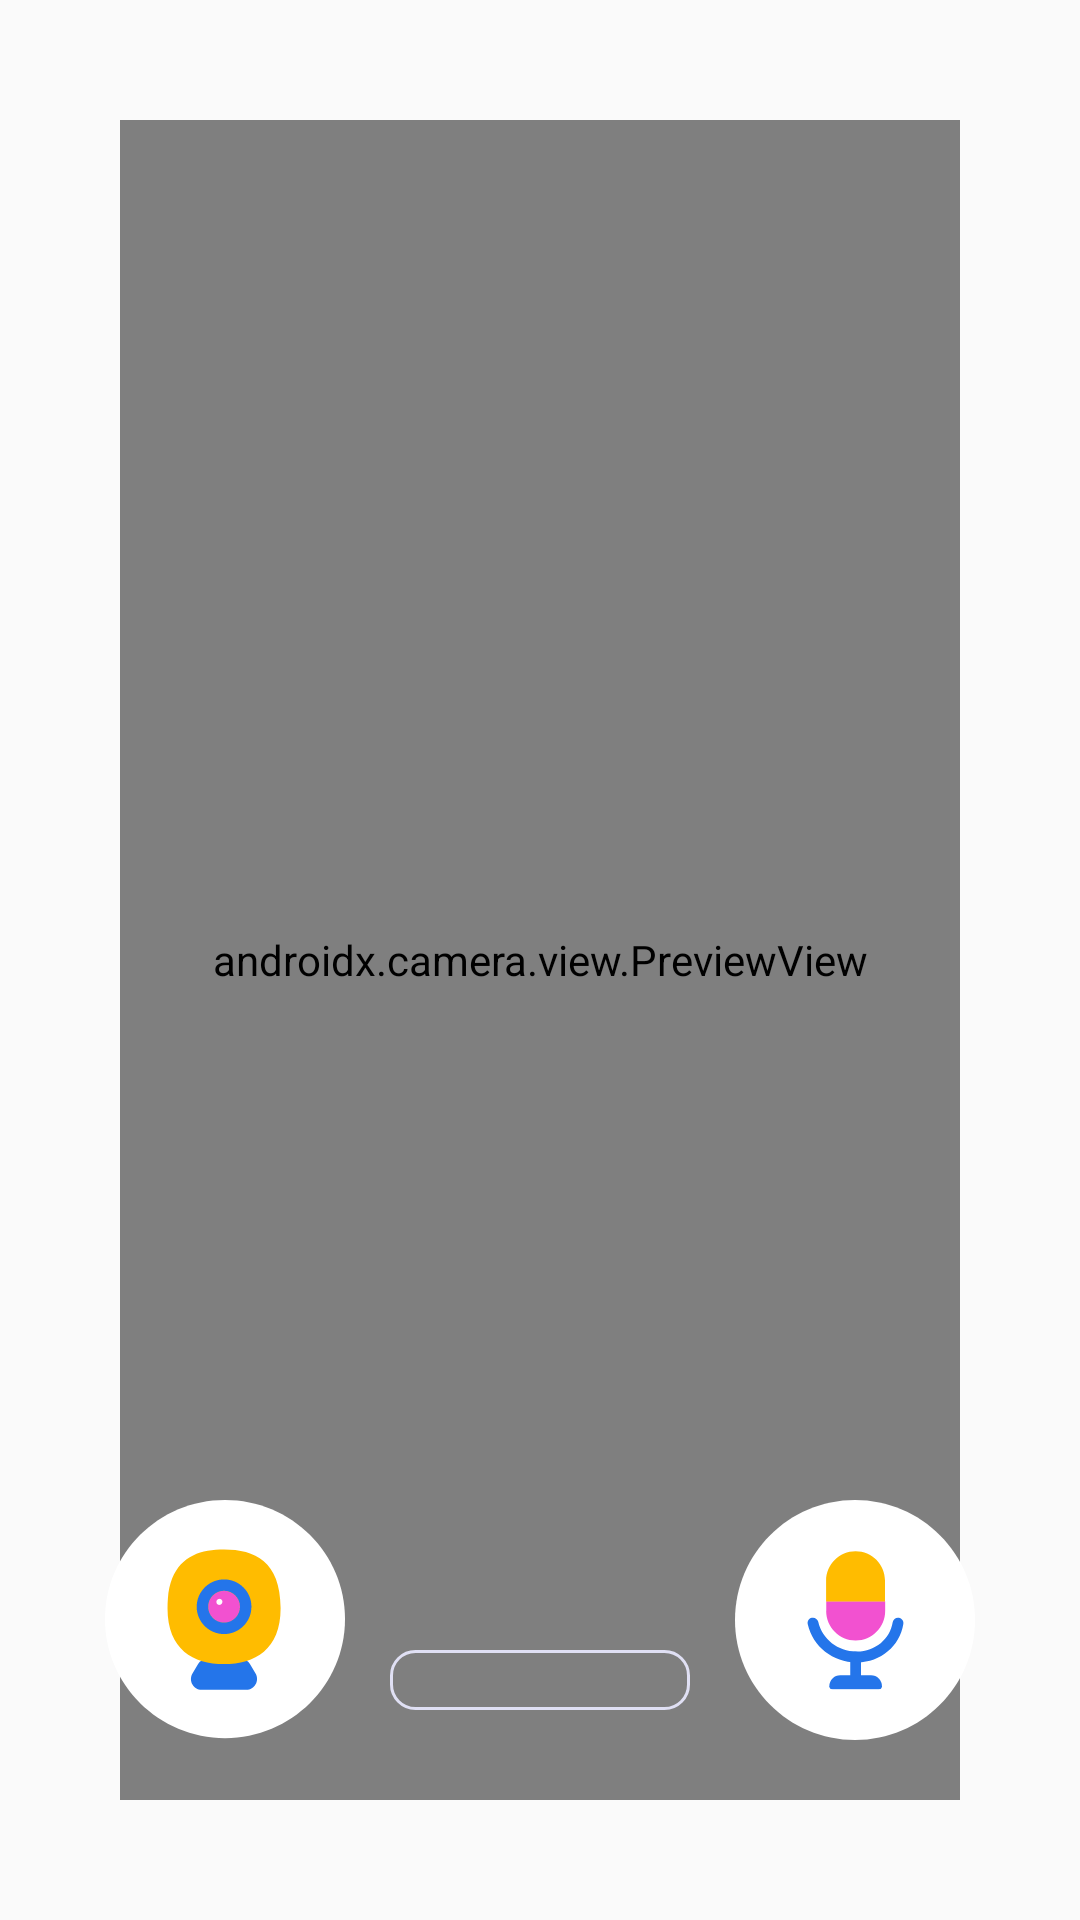

Named icons in this screenshot (1080 x 1920) and their centers, [x,y]:
mic: [855,1620]
